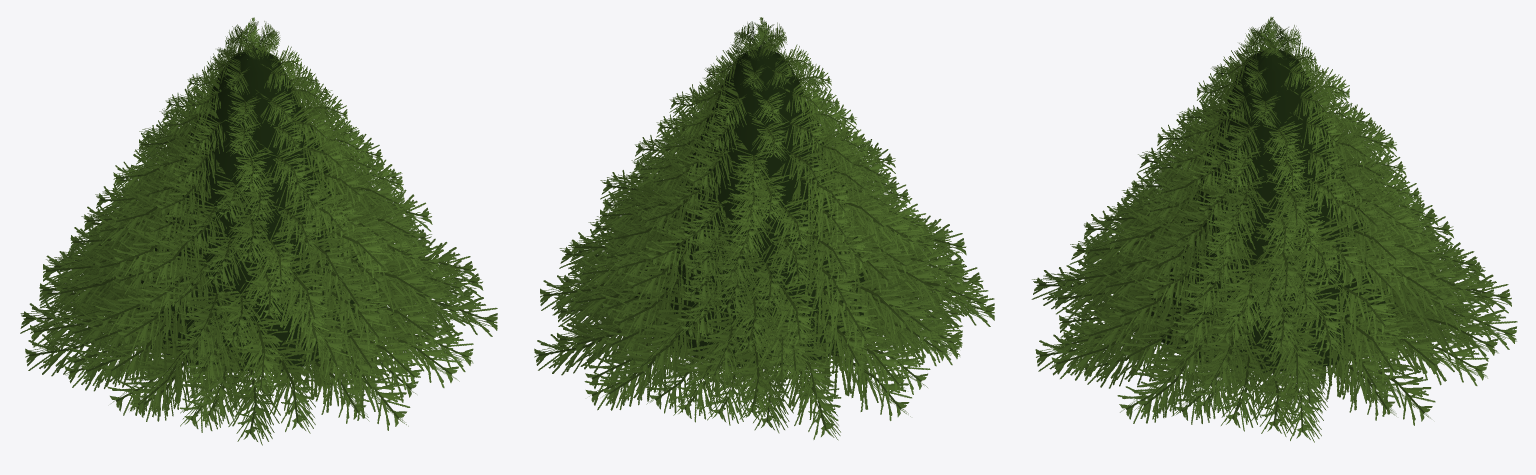
File: AraTree08.glb
3 views of the same model, side by side, from view 1: azimuth 30°, elevation 25°; view 2: azimuth 150°, elevation 25°; view 3: azimuth 270°, elevation 25° (orthographic).
Visible parts, largest first — view 1: AraTree08_needles; view 2: AraTree08_needles; view 3: AraTree08_needles.
Part boxes in pixels (<box>): AraTree08_needles: <box>20,17,497,445</box>; AraTree08_needles: <box>534,17,994,440</box>; AraTree08_needles: <box>1031,17,1517,442</box>.
Bounding box in the file's own units: 5.25 × 4.27 × 5.5.
Materials: 3 (2 with a texture image).
